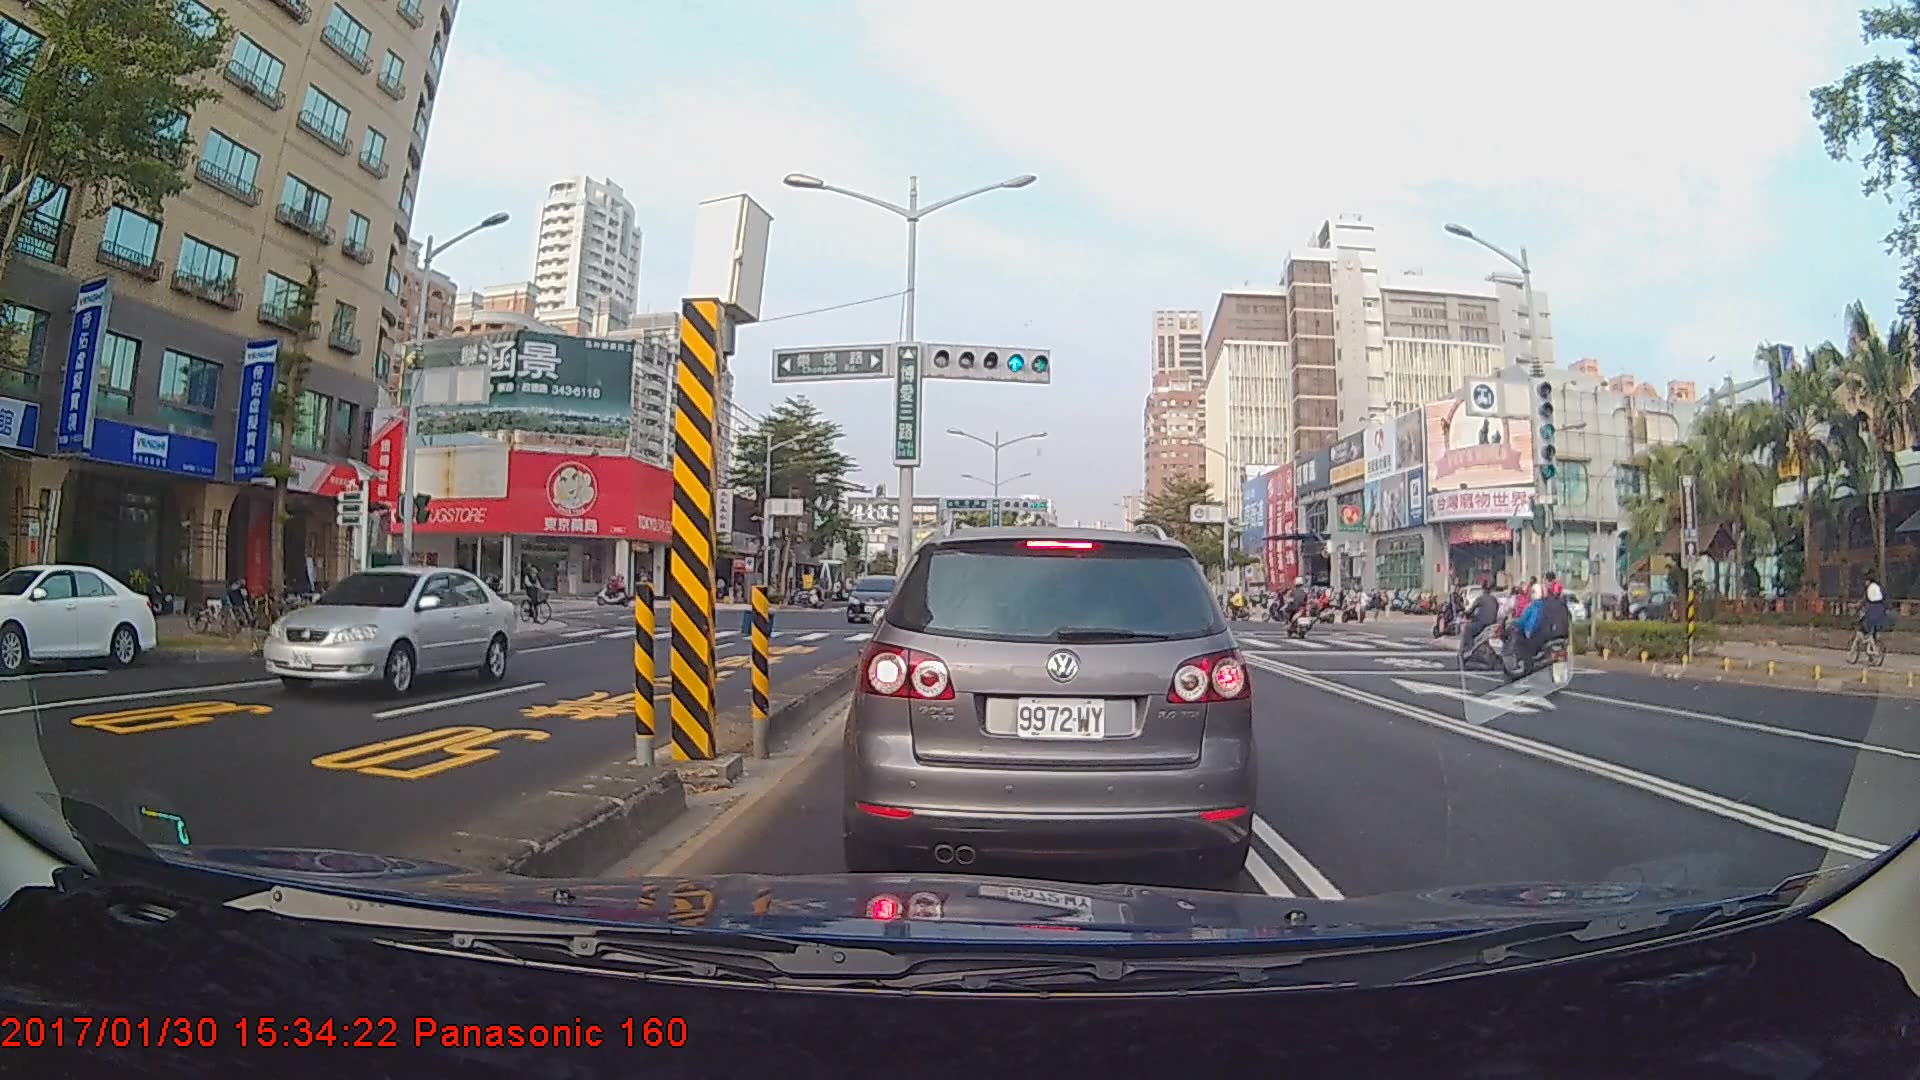pedestrian: (1615, 581, 1635, 640)
rider: (1513, 579, 1579, 693), (1454, 580, 1515, 671), (1840, 575, 1895, 669), (1275, 576, 1322, 640), (1436, 582, 1473, 646), (596, 575, 630, 610)
vehicle: (855, 521, 1245, 884), (260, 563, 516, 699), (0, 561, 156, 671), (844, 574, 910, 623)
